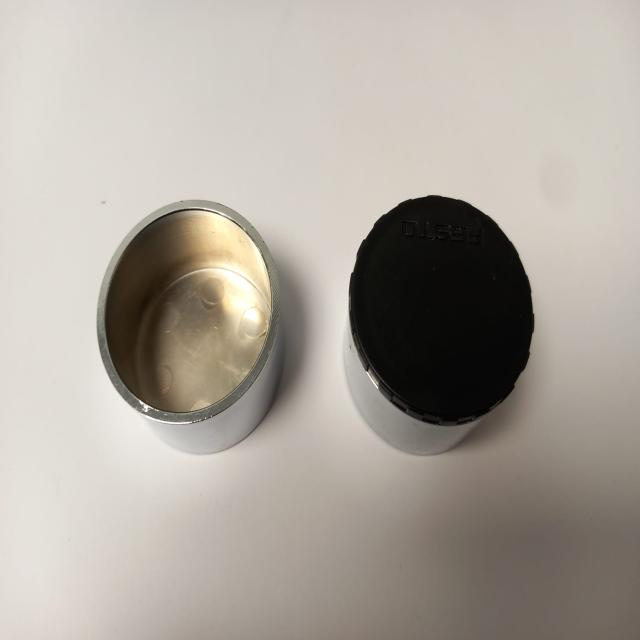NoLid: (89, 183, 299, 468)
Workpiece: (330, 169, 558, 471)
